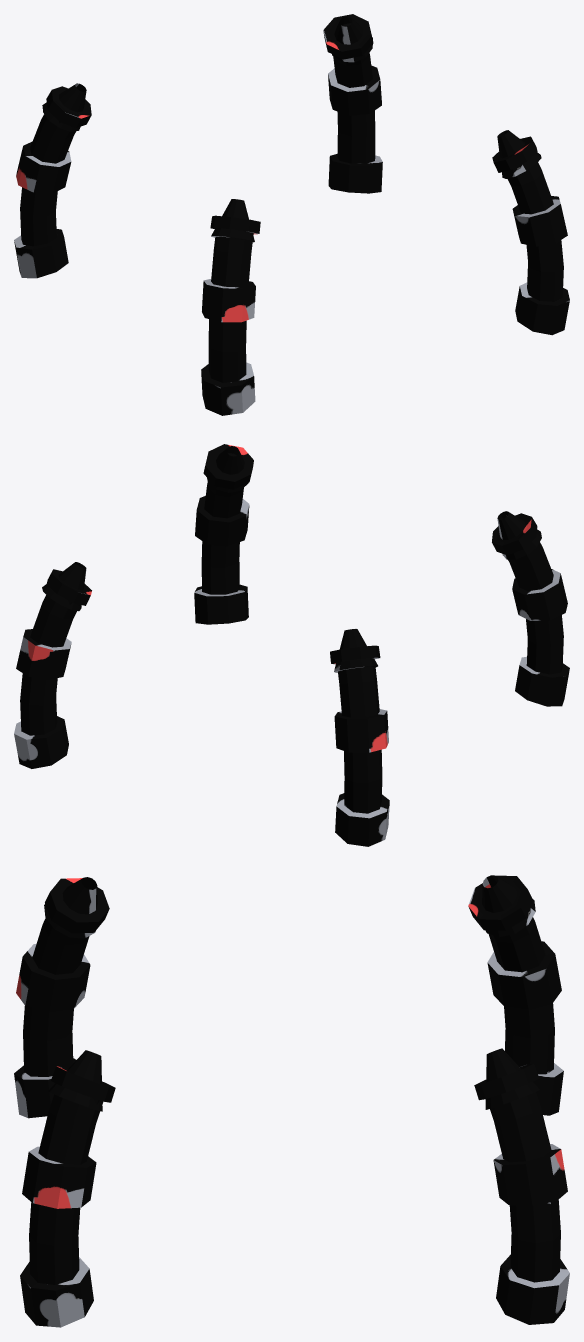
File: bossue2.fbx
3 renders of one model, top to bottom at view 1: azimuth 30°, elevation 25°; view 2: azimuth 150°, elevation 25°; view 3: azimuth 270°, elevation 25°, orthographic. The views are drawn at different scales.
Parts seen in each view (by area): view 1: polySurface3283; view 2: polySurface3283; view 3: polySurface3283.
Part boxes in pixels (left/top/right/bottom): polySurface3283: left=14, top=14, right=569, bottom=415; polySurface3283: left=14, top=444, right=569, bottom=846; polySurface3283: left=14, top=875, right=569, bottom=1327.
Size of the model in its own units: 2.66 by 1.33 by 2.66.
